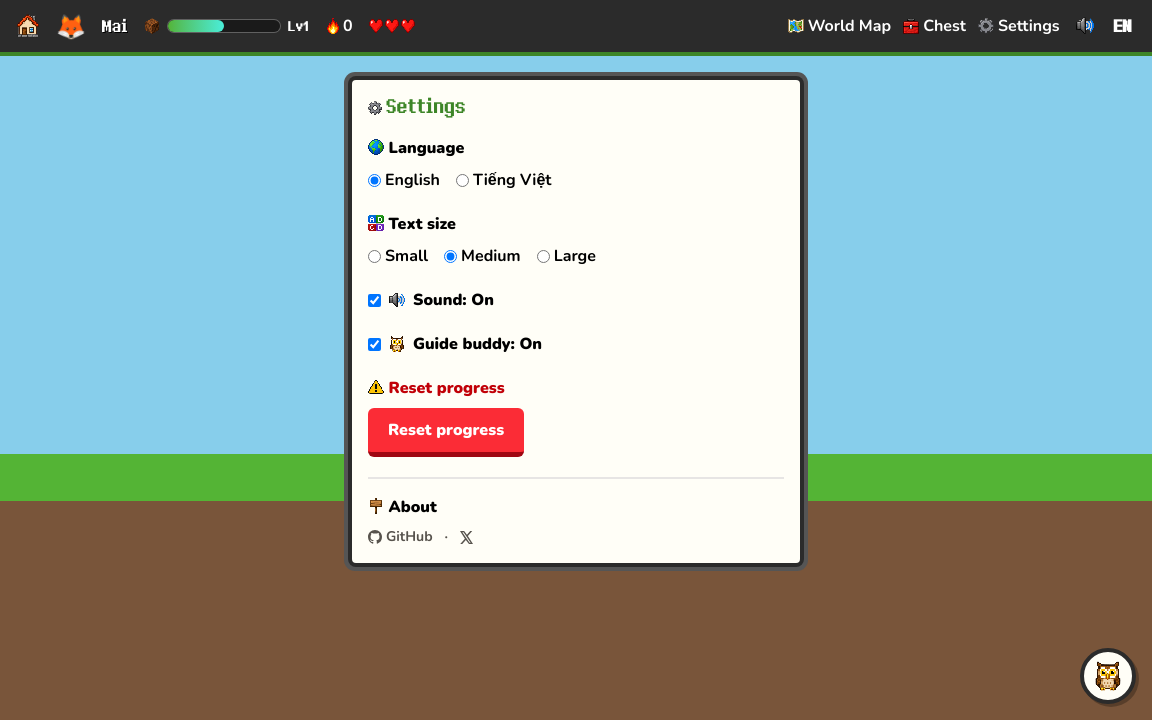
it: SettingsScreen › reset can be cancelled without wiping
The width and height of the screenshot is (1152, 720).
Click the button "Reset progress": (446, 432) [368,408,524,457]
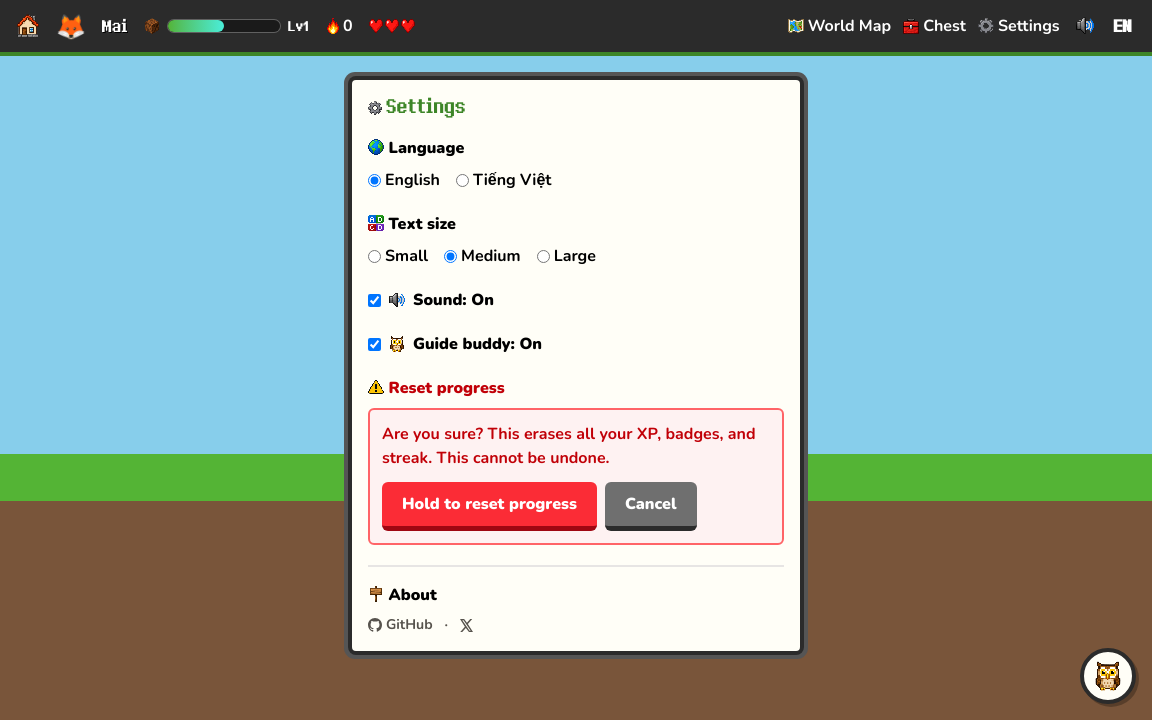
Click the button "Cancel": (651, 506) [605,482,697,531]
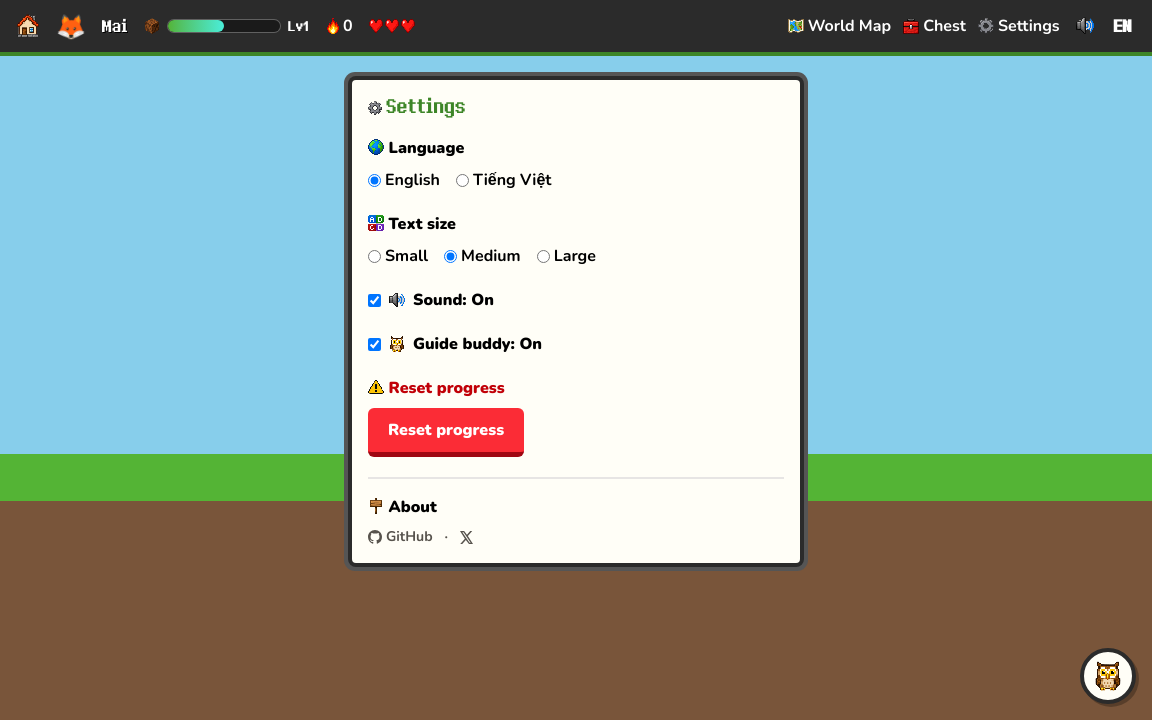
Expected: the dialog is gone
